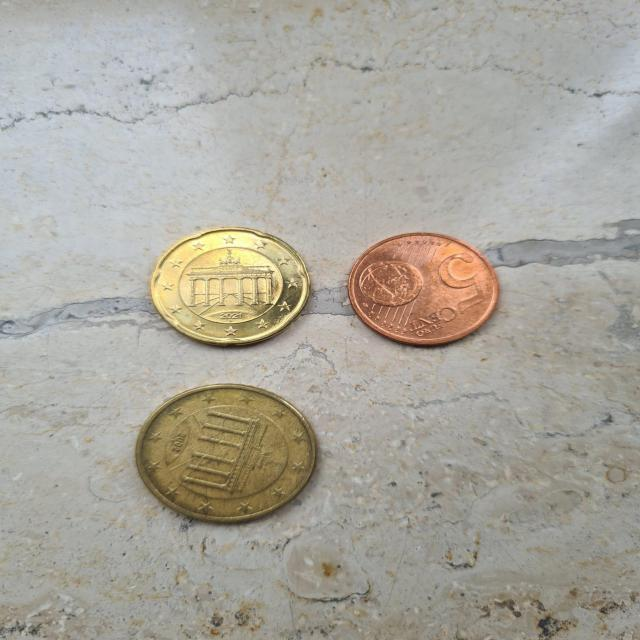10c: (132, 216, 332, 348)
20c: (120, 370, 336, 544)
5c: (334, 225, 524, 353)
